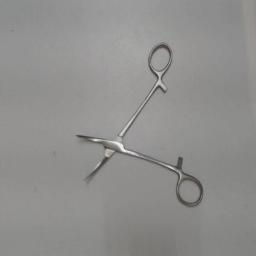Crile Artery Forceps: (70, 38, 206, 210)
